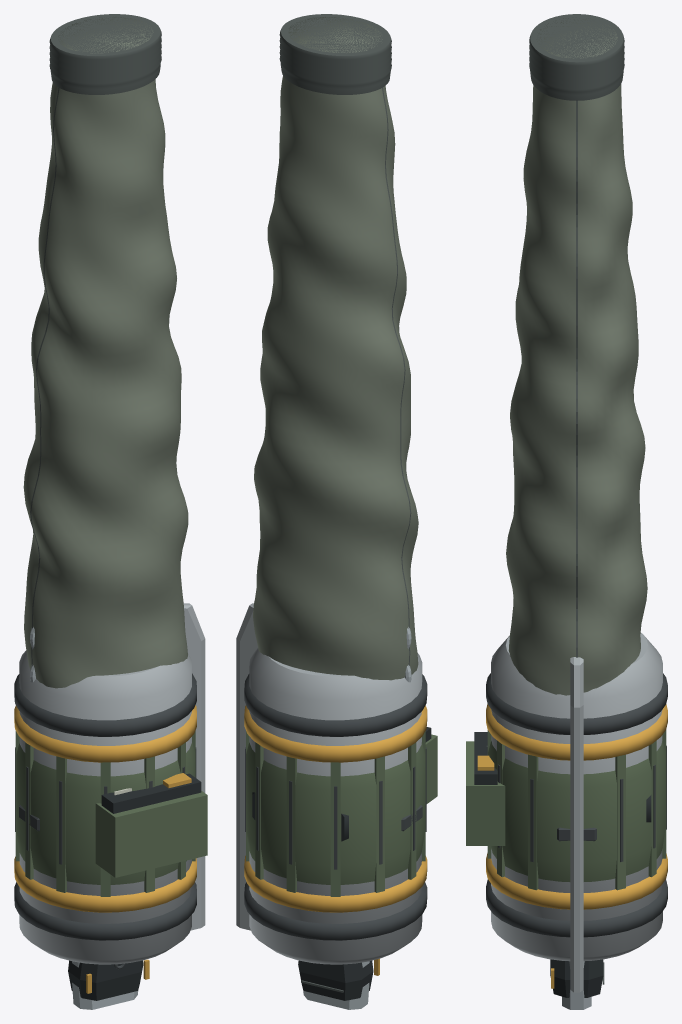
The model's file is hand_equipment.glb.
3 renders of one model, left to right at view 1: azimuth 30°, elevation 25°; view 2: azimuth 150°, elevation 25°; view 3: azimuth 270°, elevation 25°, orthographic.
Parts seen in each view (by area): view 1: SleeveWovenCloth, UtilityShell.001, UtilityShell, SleeveKnitCuff, CuffWrap, RolledBand.003, RolledBand.002, RolledBand.001, RolledBand, SafetyLever.001, KnifeGripScales, CuffStrap (+6 smaller); view 2: SleeveWovenCloth, UtilityShell.001, UtilityShell, SleeveKnitCuff, SafetyLever.001, RolledBand.003, RolledBand.002, RolledBand.001, RolledBand, KnifeGripScales, ShellRib.008, ShellRib.009 (+6 smaller); view 3: SleeveWovenCloth, UtilityShell.001, UtilityShell, SleeveKnitCuff, SafetyLever.001, RolledBand.003, RolledBand.002, RolledBand.001, RolledBand, CuffWrap, KnifeGripScales, ShellRib.001 (+4 smaller).
Boxes of the visible parts, x1,y1,x2,y2 form: SleeveWovenCloth: (23,17,188,688); UtilityShell.001: (19,650,191,964); UtilityShell: (16,742,195,884); SleeveKnitCuff: (49,14,161,94); CuffWrap: (95,791,207,877); RolledBand.003: (14,673,196,736); RolledBand.002: (14,882,196,940); RolledBand.001: (14,705,196,762); RolledBand: (14,856,196,912); SafetyLever.001: (183,603,205,930); KnifeGripScales: (68,960,143,1000); CuffStrap: (101,773,201,813); SleeveWovenCloth: (253,17,418,680); UtilityShell.001: (249,648,422,964); UtilityShell: (246,742,425,884); SleeveKnitCuff: (279,14,391,94); SafetyLever.001: (236,603,257,930); RolledBand.003: (244,674,427,736); RolledBand.002: (244,882,427,940); RolledBand.001: (244,705,427,762); RolledBand: (244,855,427,912); KnifeGripScales: (298,960,373,1000); ShellRib.008: (330,762,340,896); ShellRib.009: (286,756,296,892); SleeveWovenCloth: (506,18,647,695); UtilityShell.001: (491,632,662,961); UtilityShell: (488,740,665,881); SleeveKnitCuff: (529,14,624,100); SafetyLever.001: (570,657,583,992); RolledBand.003: (486,673,667,734); RolledBand.002: (486,879,667,937); RolledBand.001: (486,704,667,760); RolledBand: (486,853,667,909); CuffWrap: (466,741,505,845); KnifeGripScales: (550,959,603,997); ShellRib.001: (528,754,538,890).
Size of the model in its own units: 0.123 by 0.639 by 0.122.
